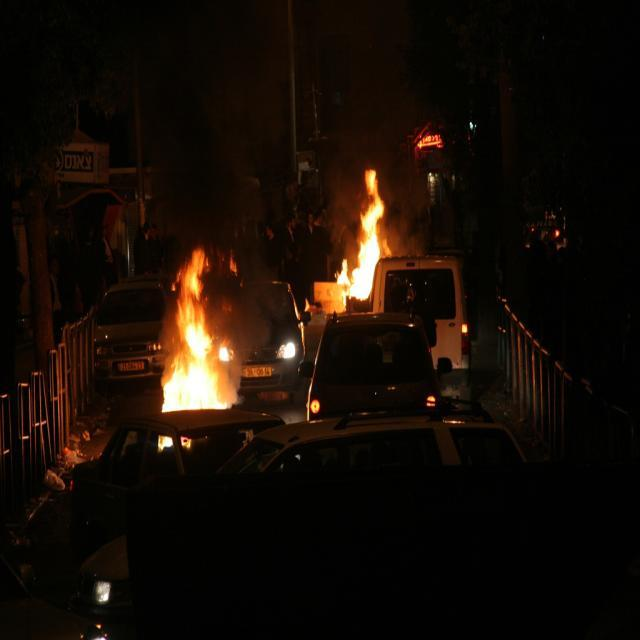Fire: (164, 327, 226, 410), (352, 231, 377, 302)
